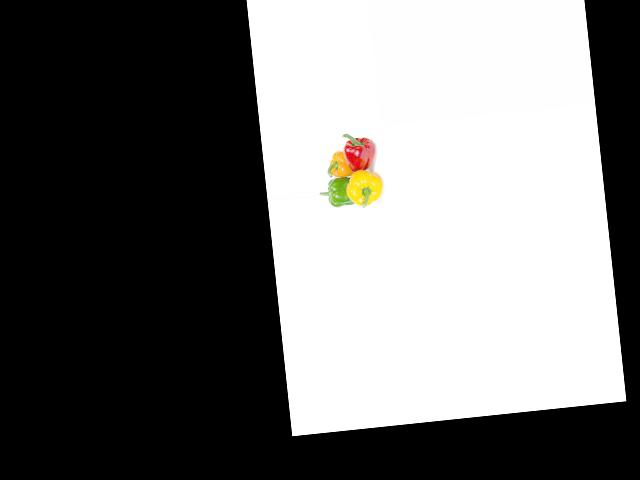bell_pepper: (344, 166, 386, 211)
